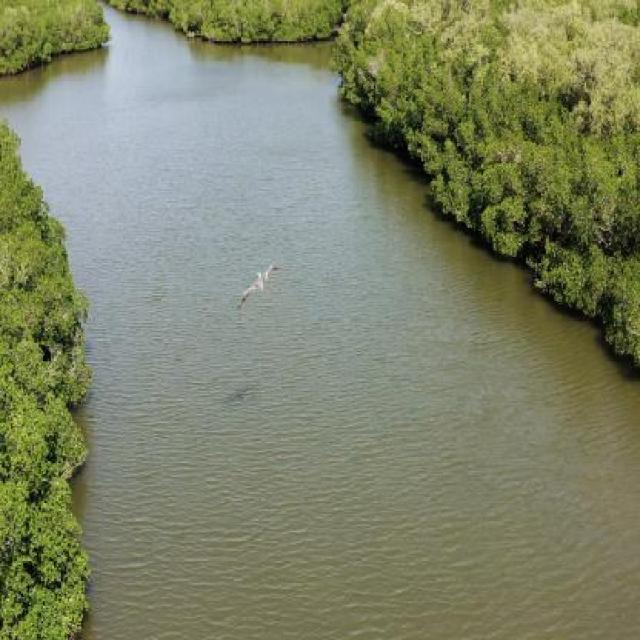bird: (227, 258, 281, 314)
